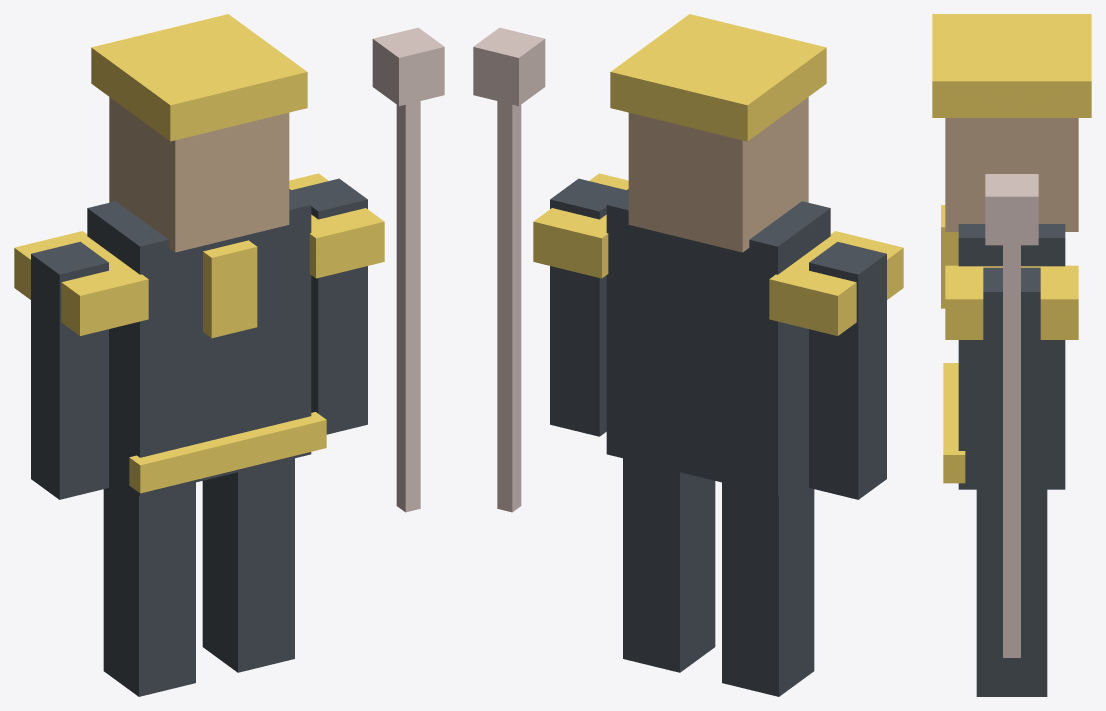
The model's file is 20_talia_voidrill_navigator_at_elemental.glb.
3 renders of one model, left to right at view 1: azimuth 30°, elevation 25°; view 2: azimuth 150°, elevation 25°; view 3: azimuth 270°, elevation 25°, orthographic.
Parts seen in each view (by area): view 1: Talia Voidrill, Navigator at Elemental; view 2: Talia Voidrill, Navigator at Elemental; view 3: Talia Voidrill, Navigator at Elemental.
Boxes of the visible parts, bbox=[...] form: Talia Voidrill, Navigator at Elemental: bbox=[14, 14, 444, 696]; Talia Voidrill, Navigator at Elemental: bbox=[473, 14, 903, 696]; Talia Voidrill, Navigator at Elemental: bbox=[932, 14, 1091, 696].
Bounding box in the file's own units: 1.08 × 1.62 × 0.3838.
